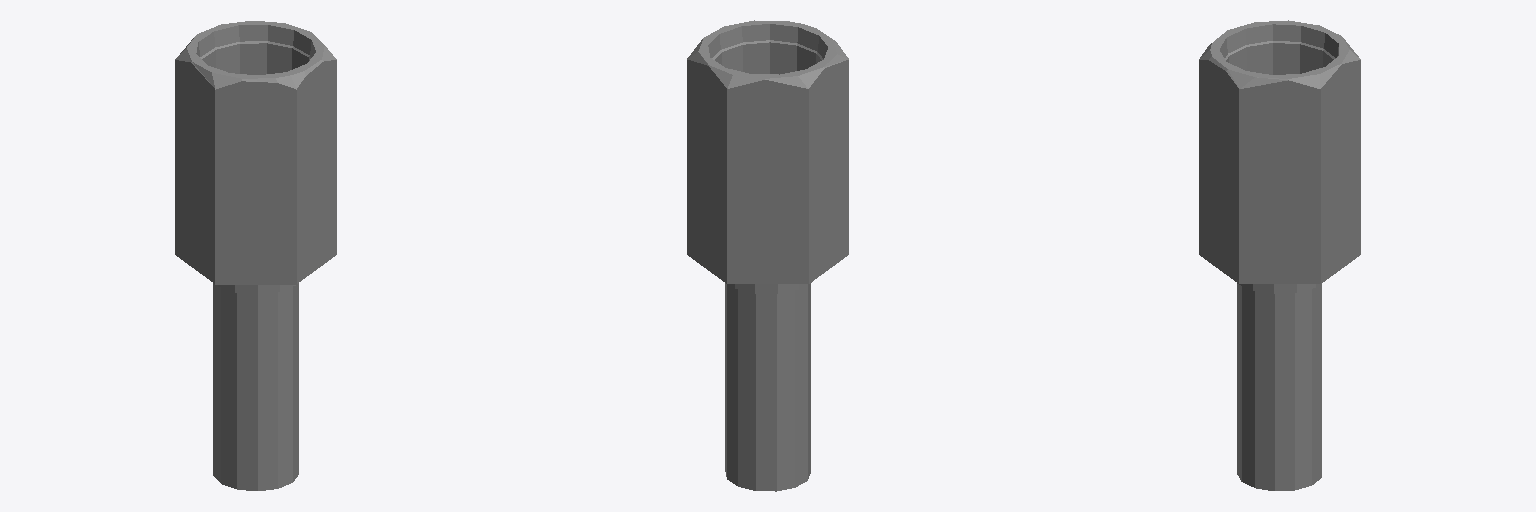
The robot description file, URDF, robot "model.urdf":
<?xml version="1.0" ?>
        <robot name="model.urdf">
            
        <material name="Gray">
            <color rgba="0.6 0.6 0.6 1.0"/>
        </material>
            
            <link name="root"/>
            
            <link concave="no" name="link_top">
            <inertial>
                <density value="100"/>
            </inertial>
            <visual>
                <origin xyz="0 0 0" rpy="0.0 0.0 0.0"/>
                <geometry>
                <mesh filename="assets/meshes/stutzmontage/visual/Nut_top.obj" scale="0.024909341658661228 0.024909341658661228 0.041642256564556834" />
                </geometry>
                <material name="Gray"/>
            </visual>
            <collision>
                <origin xyz="0 0 0" rpy="0.0 0.0 0.0"/>
                <geometry>
                <mesh filename="assets/meshes/stutzmontage/visual/Nut_top.obj" scale="0.024909341658661228 0.024909341658661228 0.041642256564556834"/>
                </geometry>
            </collision>
            </link>
        
            
            <link concave="no" name="link_bot">
            <inertial>
                <density value="100"/>
            </inertial>
            <visual>
                <origin xyz="0 0 0" rpy="0.0 0.0 0.0"/>
                <geometry>
                <mesh filename="assets/meshes/stutzmontage/visual/Nut_bottom.obj" scale="0.02561094984458378 0.02561094984458378 0.033937298497499234" />
                </geometry>
                <material name="Gray"/>
            </visual>
            <collision>
                <origin xyz="0 0 0" rpy="0.0 0.0 0.0"/>
                <geometry>
                <mesh filename="assets/meshes/stutzmontage/visual/Nut_bottom.obj" scale="0.02561094984458378 0.02561094984458378 0.033937298497499234"/>
                </geometry>
            </collision>
            </link>
        
            
            <joint name="top_joint" type="fixed">
                <parent link="root"/>
                <child link="link_top"/>
                <origin xyz="0 0 0" rpy="0.0 0.0 0.0"/>
            </joint>
        
            
            <joint name="bot_joint" type="fixed">
                <parent link="root"/>
                <child link="link_bot"/>
                <origin xyz="0 0 0" rpy="0.0 0.0 0.0"/>
            </joint>
        
        </robot>
        

--- What the picture shows (computed from the rendered views, not written in the file) ---
3 views of the same robot in one strip: view 1: azimuth 30°, elevation 25°; view 2: azimuth 150°, elevation 25°; view 3: azimuth 270°, elevation 25° (orthographic).
Robot: model.urdf — 3 links, 2 joints (2 fixed); root link root; default pose: every joint at zero.
Visible links, largest first — view 1: link_top, link_bot; view 2: link_top, link_bot; view 3: link_top, link_bot.
Boxes of the visible links, bbox=[...] form: link_top: bbox=[175, 21, 336, 284]; link_bot: bbox=[213, 283, 298, 490]; link_top: bbox=[687, 20, 848, 283]; link_bot: bbox=[725, 282, 811, 491]; link_top: bbox=[1199, 20, 1360, 283]; link_bot: bbox=[1237, 283, 1321, 490].
Bounding box of the posed robot: 0.0265 × 0.0306 × 0.0881 m (x, y, z).
Meshes: 2 distinct files referenced, 2 mesh visuals loaded (2 OBJ).
